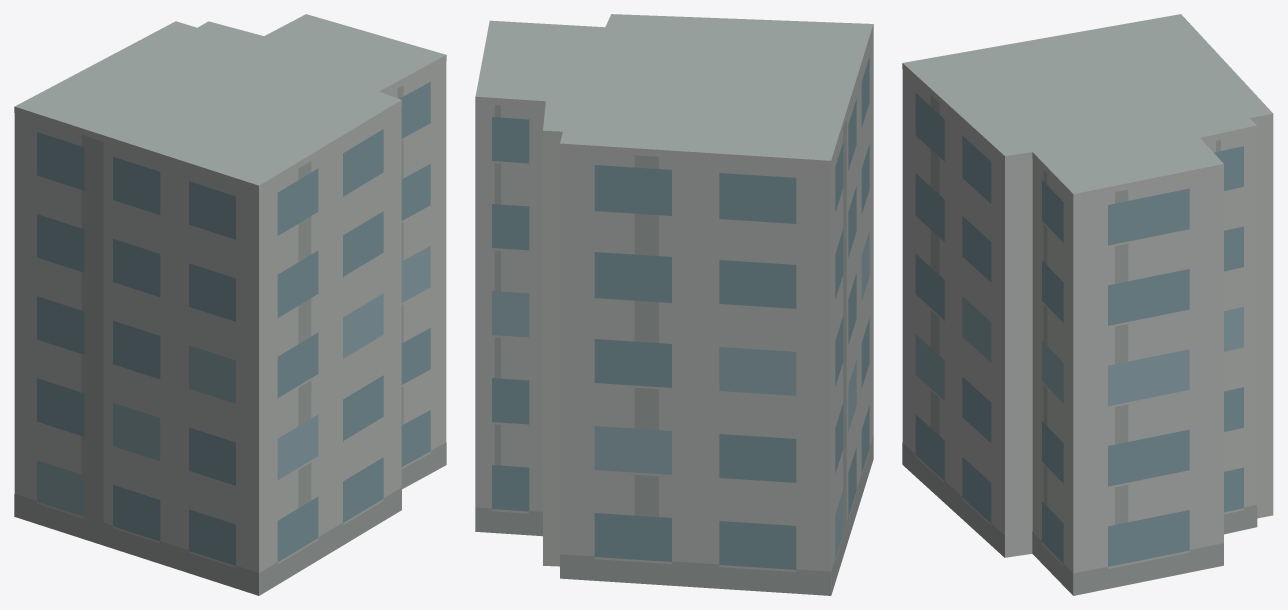
The model's file is survey-upis-32866116.glb.
The picture shows the model from 3 angles, left to right: view 1: azimuth 30°, elevation 25°; view 2: azimuth 150°, elevation 25°; view 3: azimuth 270°, elevation 25°; orthographic projection. The views are drawn at different scales.
Parts seen in each view (by area): view 1: survey-upis-32866116.tmp; view 2: survey-upis-32866116.tmp; view 3: survey-upis-32866116.tmp.
Part boxes in pixels (x1=…): survey-upis-32866116.tmp: x1=14, y1=14, x2=446, y2=595; survey-upis-32866116.tmp: x1=475, y1=14, x2=873, y2=595; survey-upis-32866116.tmp: x1=902, y1=14, x2=1273, y2=595.
Size of the model in its own units: 14.53 by 15.1 by 12.65.
